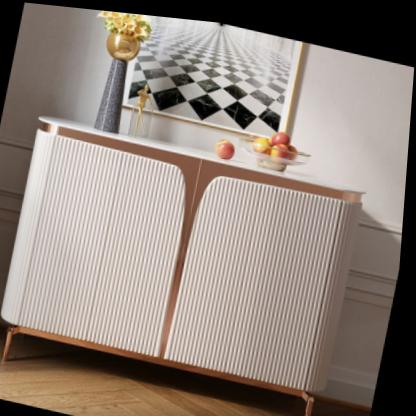Sideboard: (3, 115, 365, 396)
